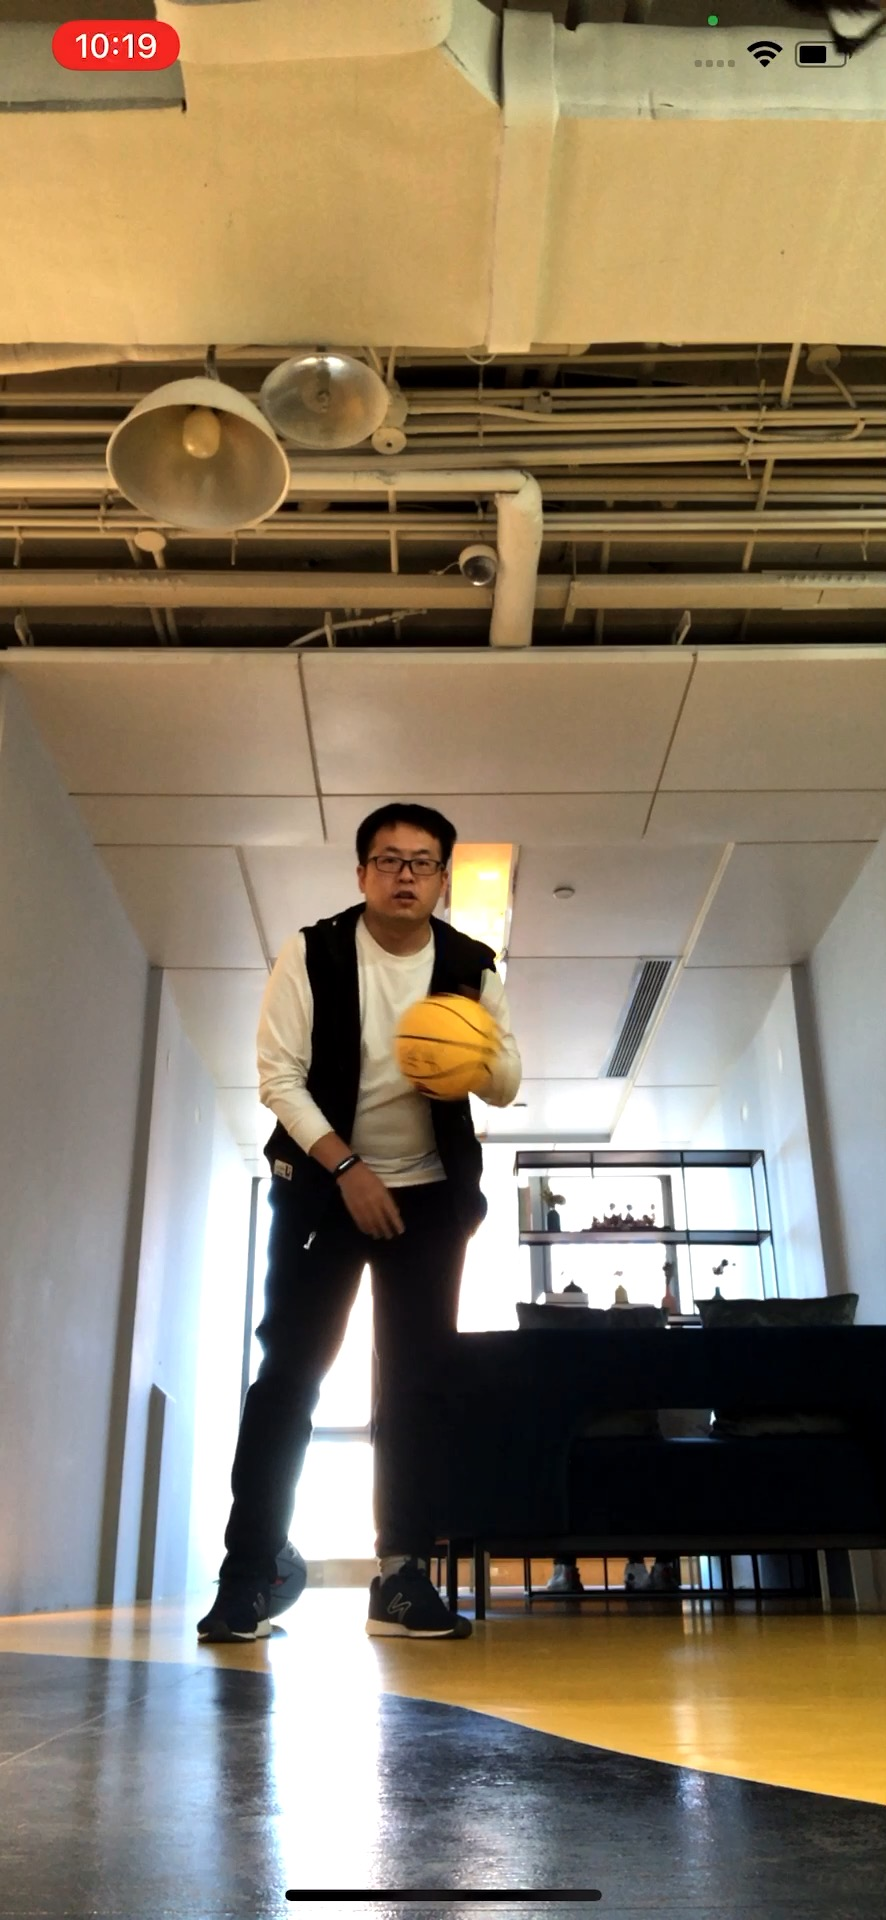ball: (396, 996, 508, 1102)
